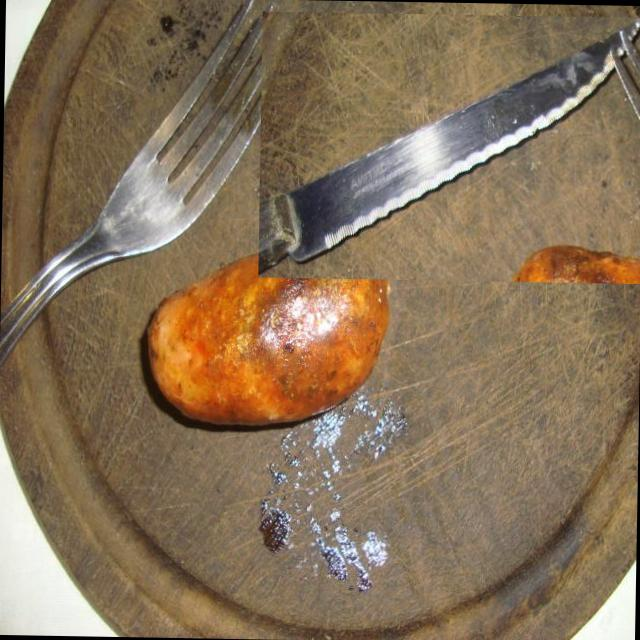Knife: (258, 17, 640, 277)
